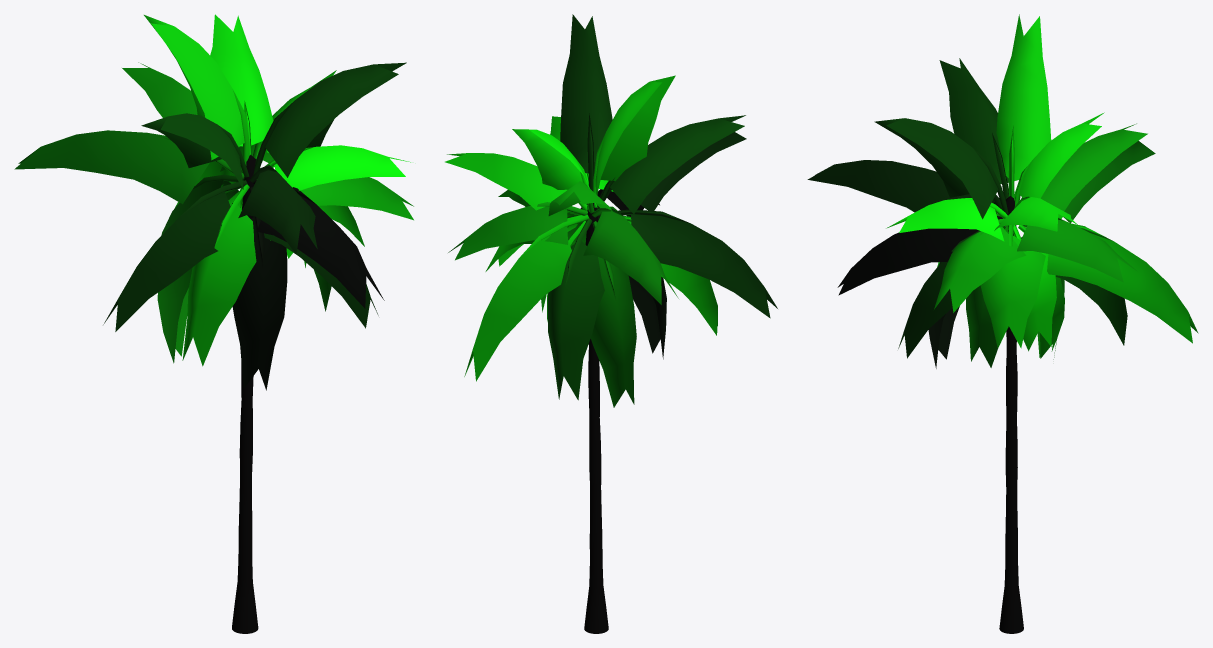
Rendered from M_P10_Tree_12.fbx.
3 renders of one model, left to right at view 1: azimuth 30°, elevation 25°; view 2: azimuth 150°, elevation 25°; view 3: azimuth 270°, elevation 25°, orthographic. The views are drawn at different scales.
Visible parts, largest first — view 1: Palm_2_4; view 2: Palm_2_4; view 3: Palm_2_4.
Part boxes in pixels (x1,y1,x2,y2): Palm_2_4: (14, 14, 413, 633); Palm_2_4: (445, 14, 777, 633); Palm_2_4: (807, 14, 1198, 633).
Size of the model in its own units: 245 by 480 by 297.
